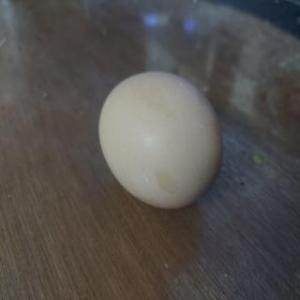egg: (95, 68, 226, 214)
